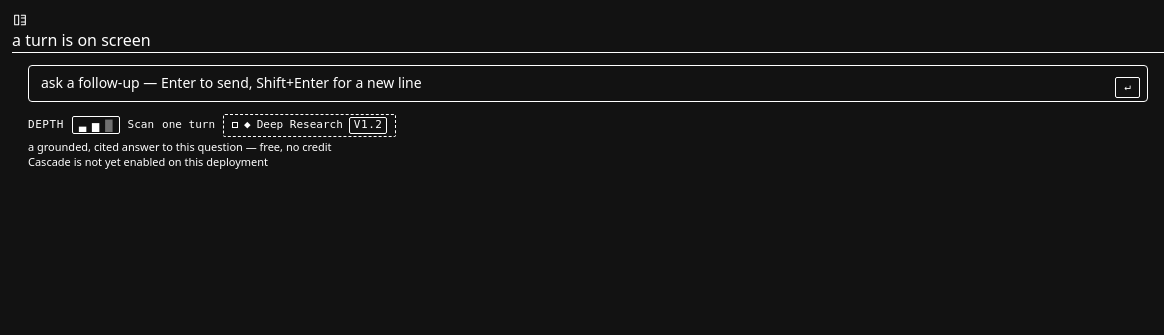
Test: TemplateLibrary: choosing PREFILLS, never submits (D-UX-1 law 1) › a cold row prefills the BLANKS and parks the caret on the first one
This screenshot has width=1164, height=335.
What coordinates should you click on to do the following:
click the button named "template library"
I would click on:
 (20, 20)
Its box is 12,12 -> 28,28.
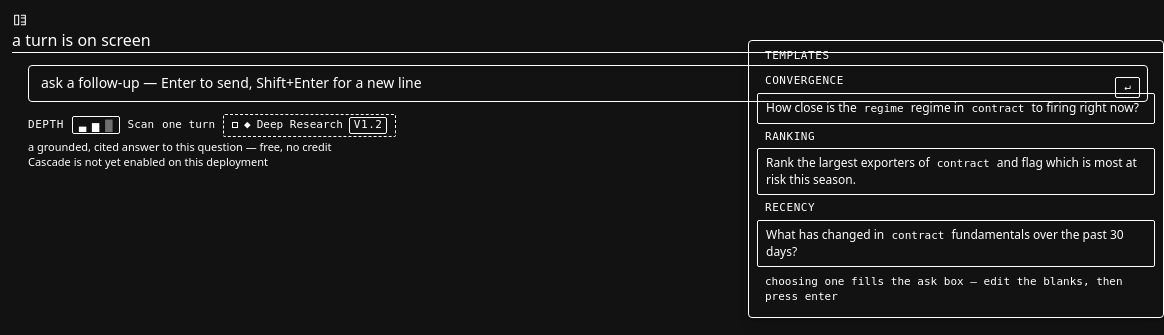
What coordinates should you click on to do the following:
click the button that starts with "What has changed in"
I would click on:
 (956, 244)
Its box is 757,220 -> 1155,267.
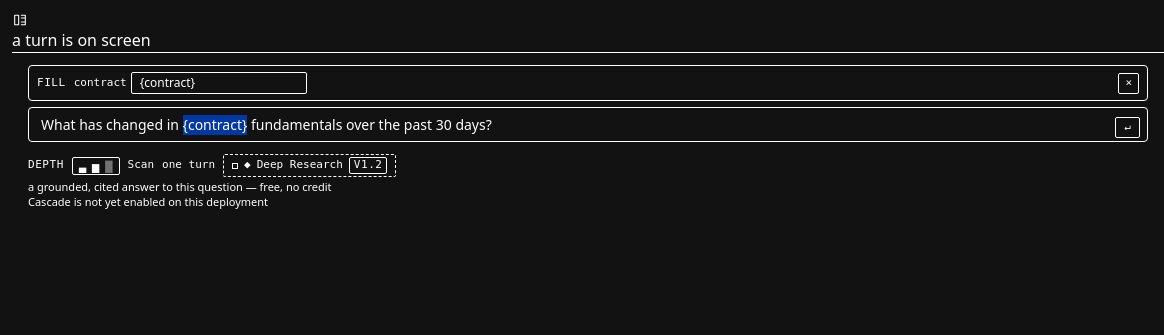
Result: the text box with test id "composer" holds "What has changed in {contract} fundamentals over the past 30 days?" at 28,107 -> 1148,142
